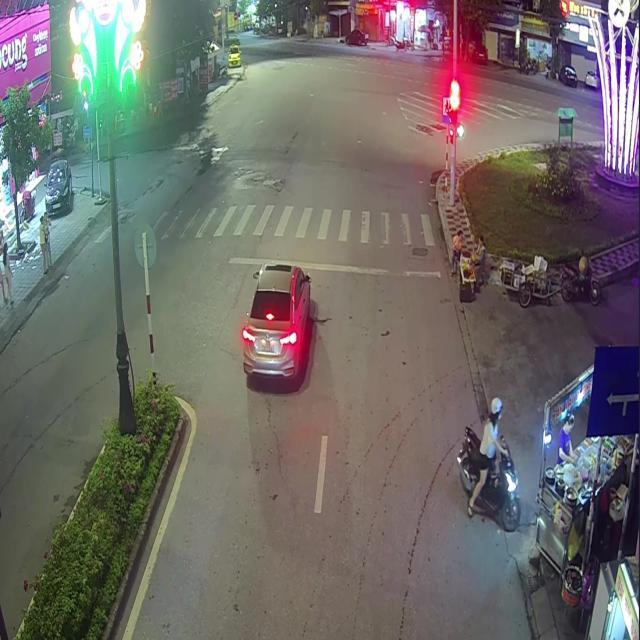car: (240, 261, 311, 378)
motobike: (456, 426, 521, 531)
red_light: (450, 92, 457, 125)
stop_line: (226, 256, 440, 277)
